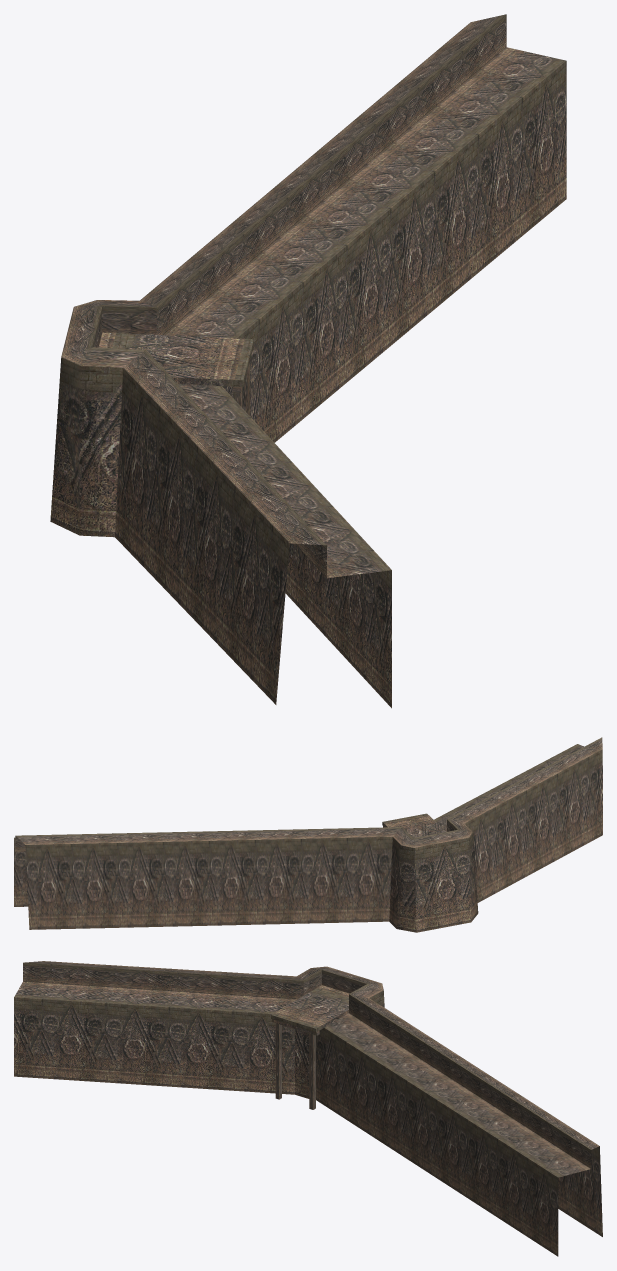
The picture shows the model from 3 angles, top to bottom: view 1: azimuth 30°, elevation 25°; view 2: azimuth 150°, elevation 25°; view 3: azimuth 270°, elevation 25°; orthographic projection. The views are drawn at different scales.
Visible parts, largest first — view 1: hr_wl2; view 2: hr_wl2; view 3: hr_wl2.
Boxes of the visible parts, x1,y1,x2,y2 form: hr_wl2: [50, 14, 566, 708]; hr_wl2: [14, 737, 602, 932]; hr_wl2: [14, 961, 602, 1256].
Bounding box in the file's own units: 31.18 × 7.04 × 37.91.
Materials: 1 (1 with a texture image).
